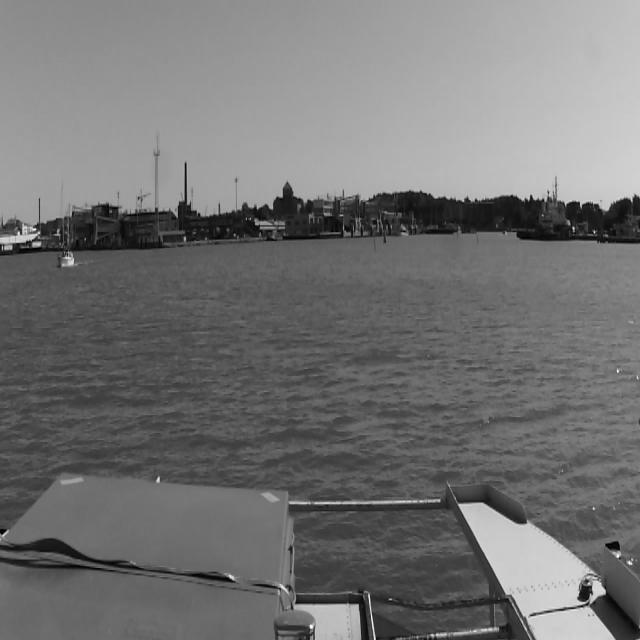buoy: (383, 228, 387, 244), (372, 237, 376, 250)
ship: (512, 174, 584, 248), (57, 184, 75, 269)
